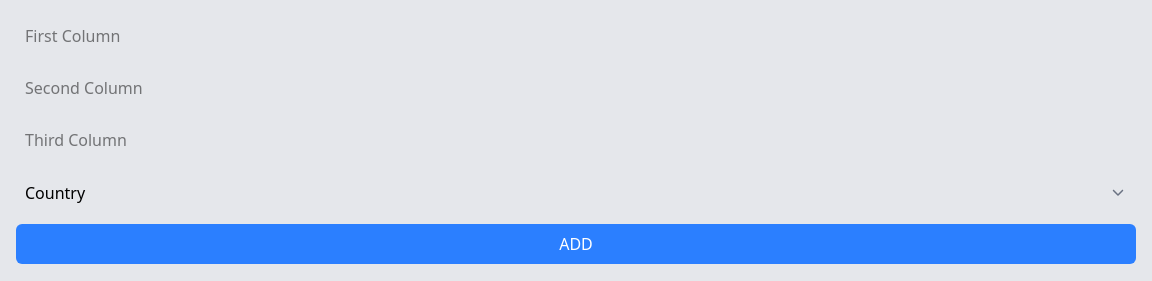
Test case: CreateTableFormComponent › respects maxLength attribute on inputs
This screenshot has width=1152, height=281.
In the field with placeholder "First Column": (576, 36) [16,16,1136,56], type "This is a very long text that exceeds limit"
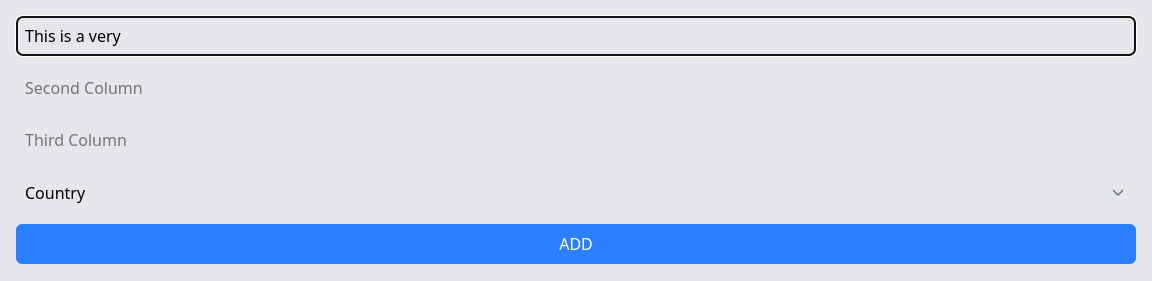
Expected: the field with placeholder "First Column" holds "This is a very ", [16,16,1136,56]
